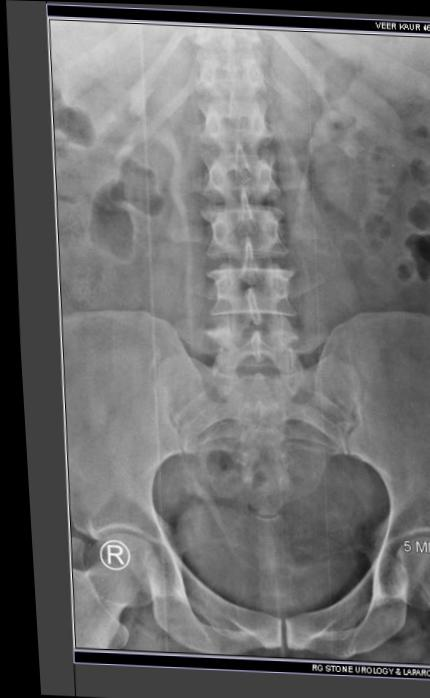vertebrae: (159, 70, 257, 137)
